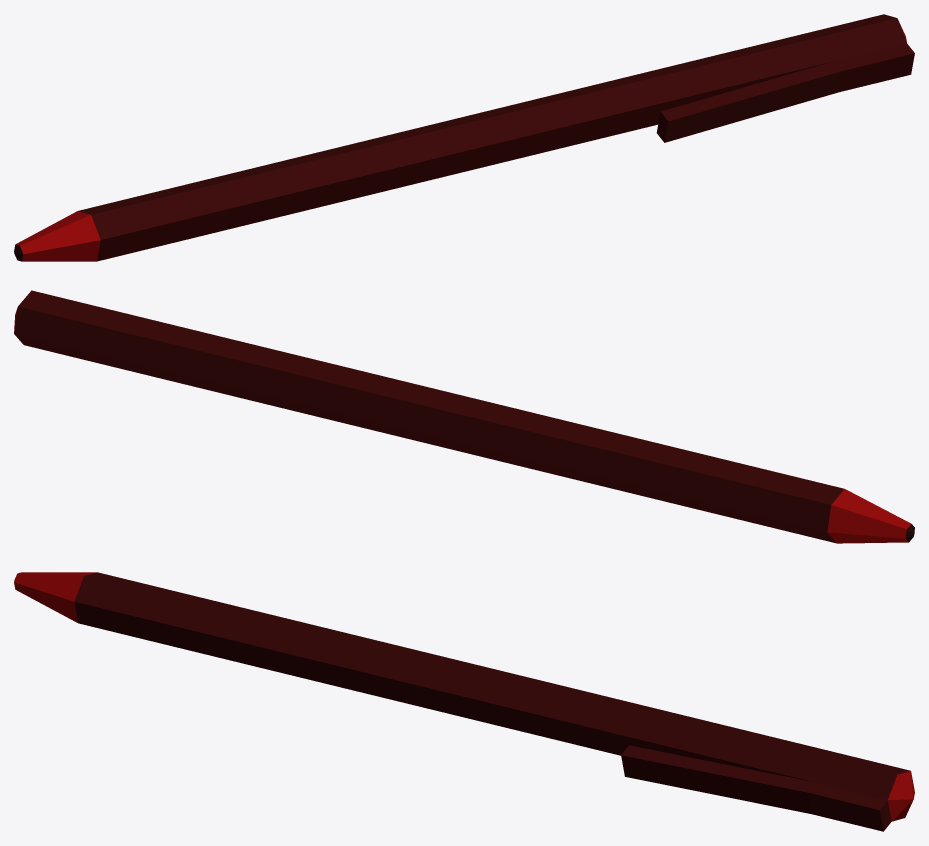
File: Pen.001.glb
The picture shows the model from 3 angles, top to bottom: view 1: azimuth 30°, elevation 25°; view 2: azimuth 150°, elevation 25°; view 3: azimuth 330°, elevation 25°; orthographic projection.
Parts seen in each view (by area): view 1: Pen.001; view 2: Pen.001; view 3: Pen.001.
Part boxes in pixels (box(x1,y1,x2,y2)): Pen.001: box(14, 14, 914, 261); Pen.001: box(14, 290, 914, 543); Pen.001: box(14, 572, 914, 831).
Size of the model in its own units: 1.24 by 0.0665 by 0.0962.
